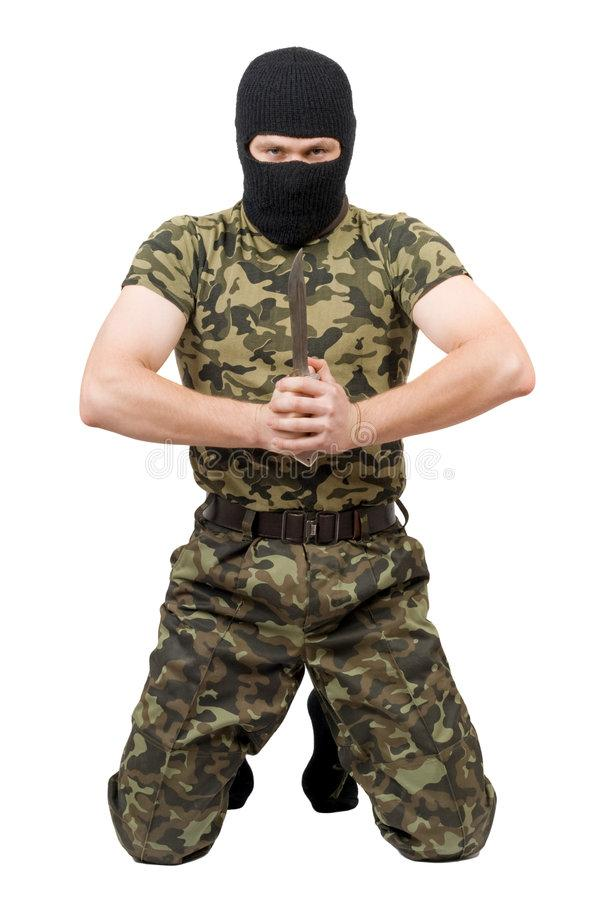criminal: (75, 42, 536, 870)
weapon: (282, 240, 317, 468)
